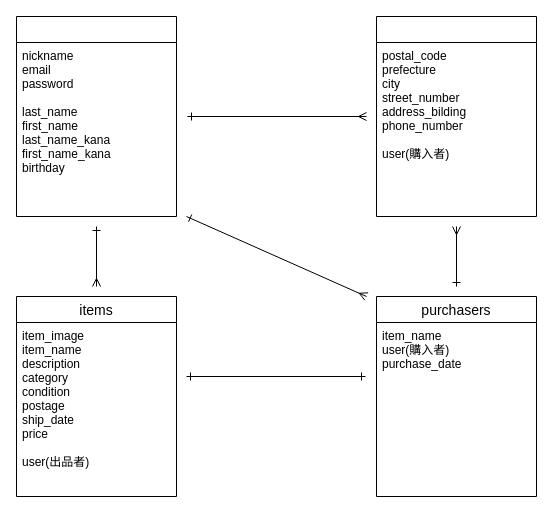
Some shapes in this 553 by 513 pixel diagram are drawn without their labels. The shapes that lost their labels are listed below. From the top down, each one's box as (x1, y1, x2, y2) in pixels, then its label:
(16, 16, 176, 216): users
(376, 16, 536, 216): addresses
